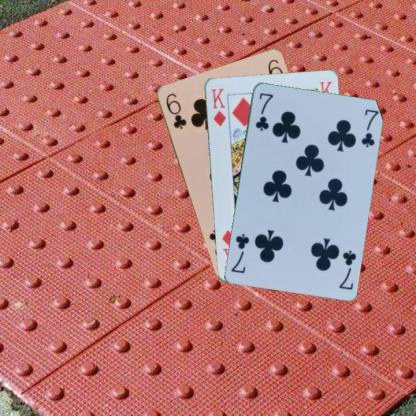6c: (163, 90, 188, 130)
7c: (252, 90, 274, 132), (336, 246, 357, 290)
Kd: (209, 85, 228, 127)
